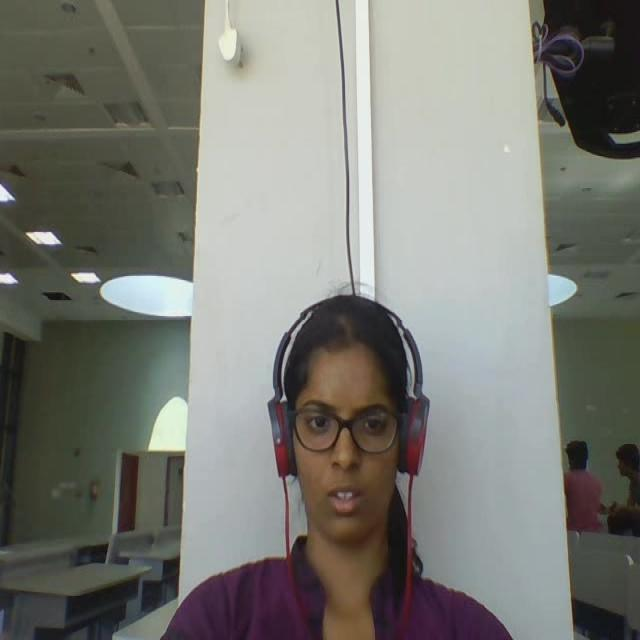Engaged: (249, 264, 444, 568)
